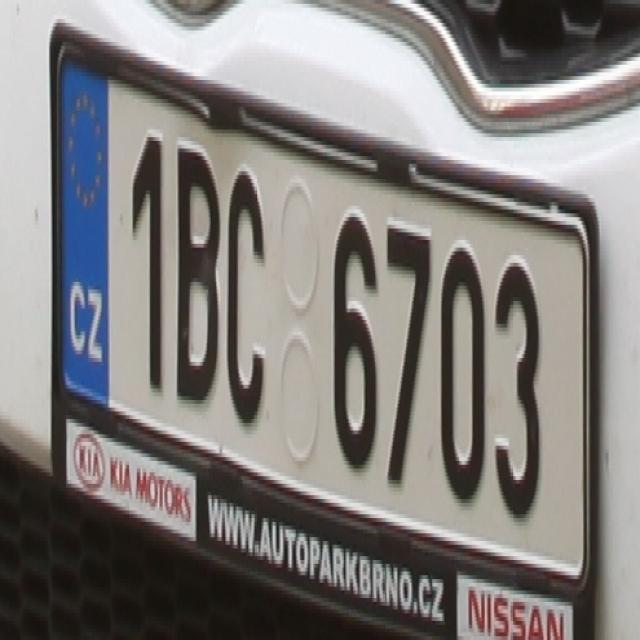0: (438, 232, 485, 507)
1: (130, 122, 166, 392)
3: (494, 251, 540, 522)
6: (333, 202, 379, 472)
7: (385, 209, 431, 492)
B: (173, 133, 220, 404)
C: (224, 160, 266, 430)
